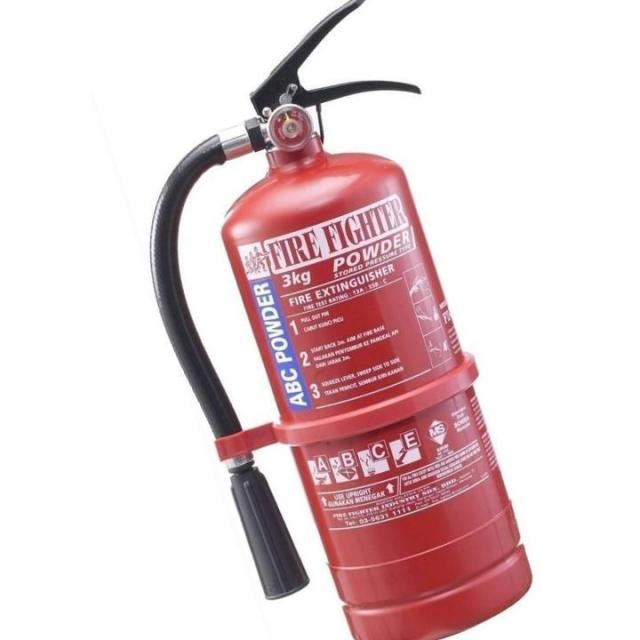fire_extinguisher: (142, 0, 537, 637)
